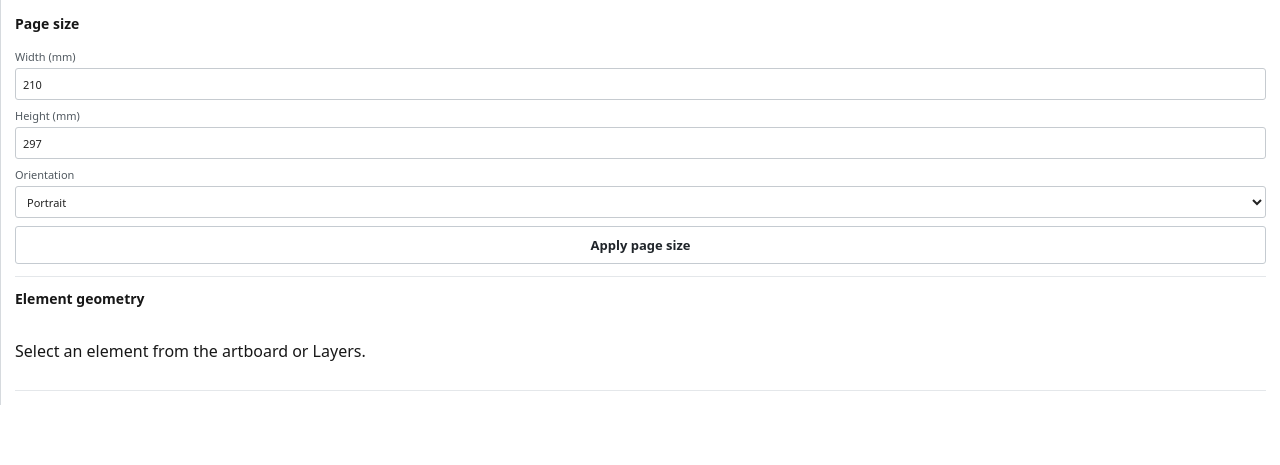
Inspector › does not treat an empty page width as zero
Clear the number field named "Page width (mm)": (640, 84) [15,68,1266,100]
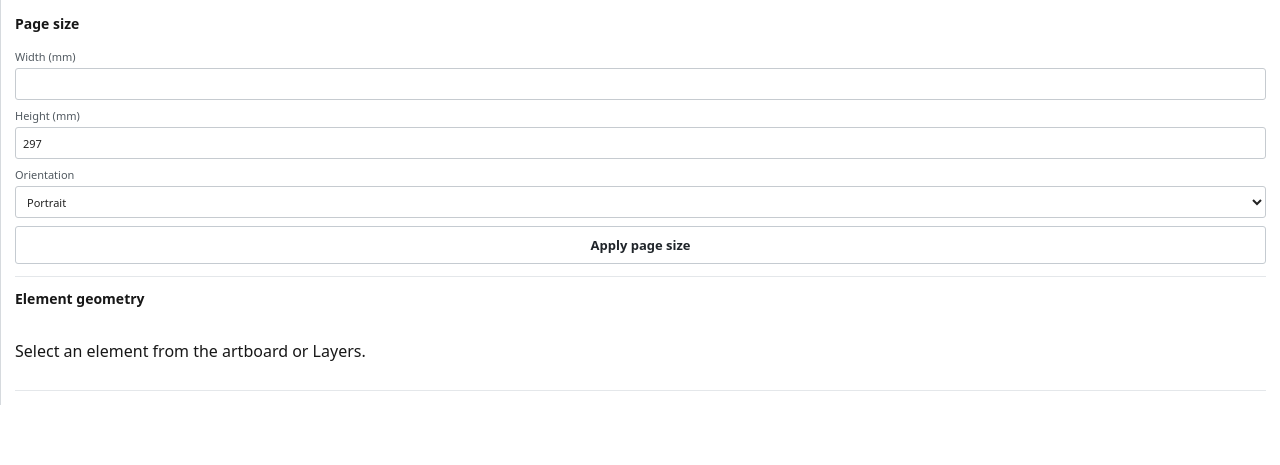
Click the button "Apply page size": (640, 245) [15,226,1266,264]
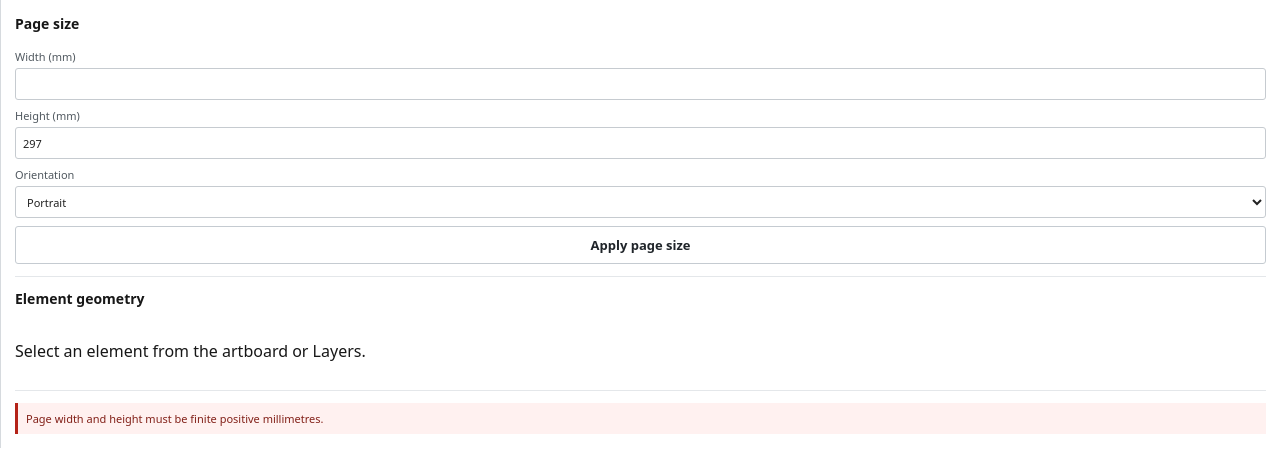
Check: the message shows "finite positive millimetres", box [26,411,324,426]
